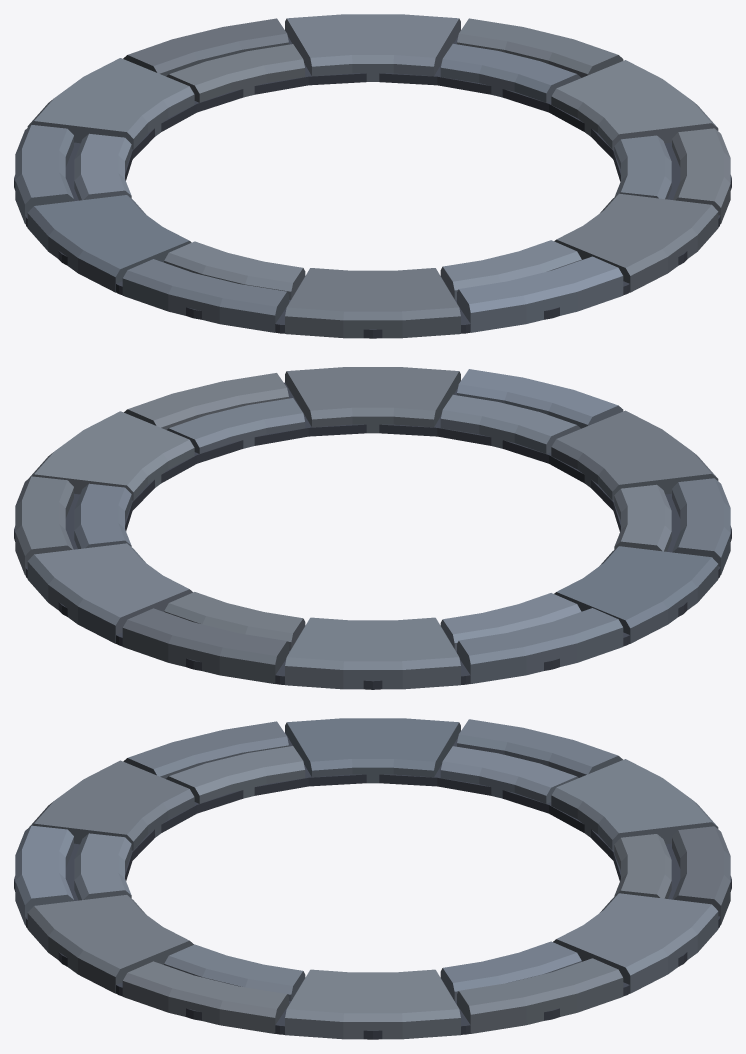
The model's file is habitat_frame_3.fbx.
3 views of the same model, one above another, from view 1: azimuth 30°, elevation 25°; view 2: azimuth 150°, elevation 25°; view 3: azimuth 270°, elevation 25° (orthographic).
Parts seen in each view (by area): view 1: habitat_frame_3; view 2: habitat_frame_3; view 3: habitat_frame_3.
Boxes of the visible parts, x1=… form: habitat_frame_3: x1=14, y1=14, x2=731, y2=338; habitat_frame_3: x1=14, y1=367, x2=731, y2=689; habitat_frame_3: x1=14, y1=718, x2=731, y2=1039.
Size of the model in its own units: 7.5 by 0.2995 by 7.5.
